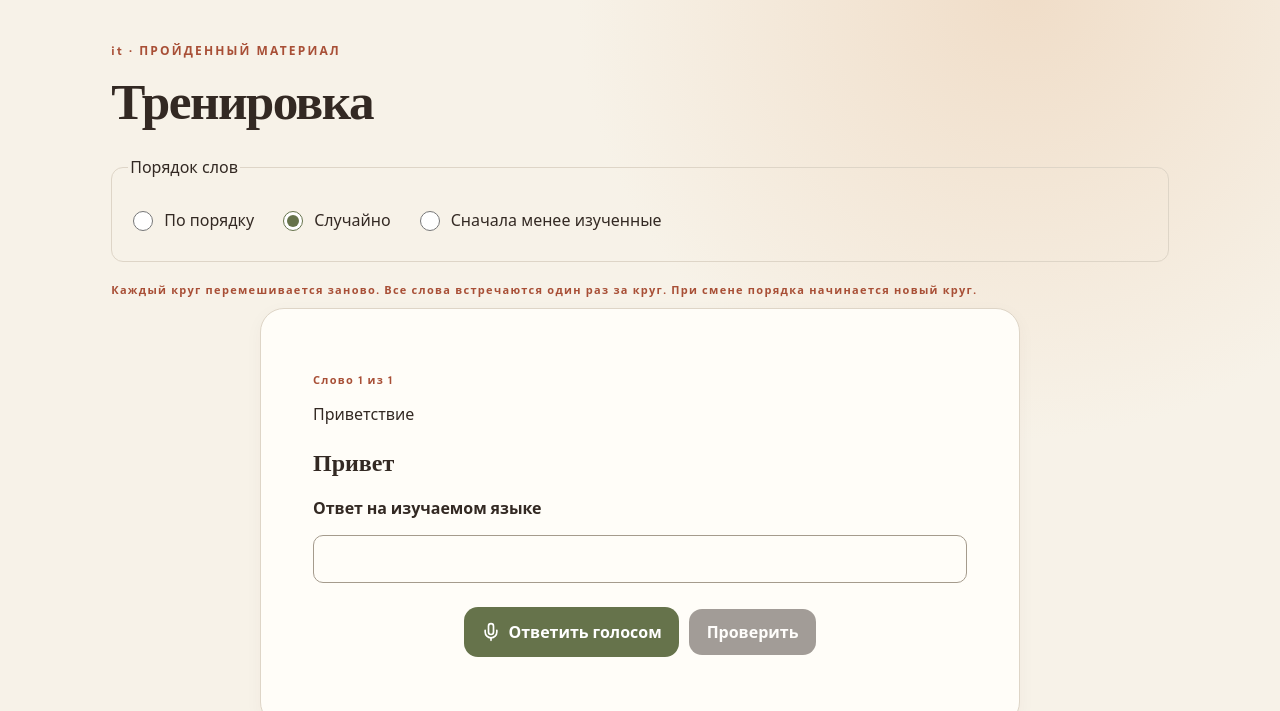
Test: keeps the it training grade visible after voice recognition
Click the button "Ответить голосом": coordinates (571, 632) x1=464 y1=607 x2=679 y2=657
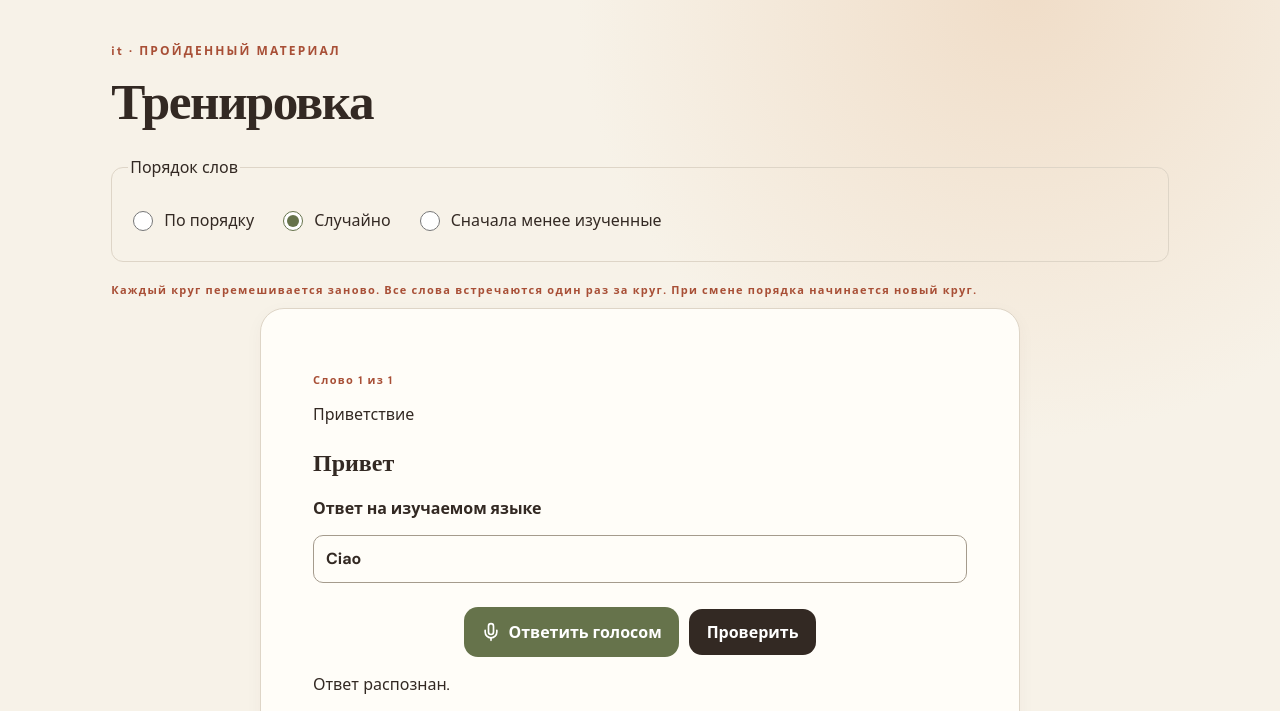
Expected: the field holds "Ciao", x1=313 y1=535 x2=967 y2=583
Click the button "Проверить": coordinates (753, 632) x1=689 y1=609 x2=816 y2=655
(page scrolled)
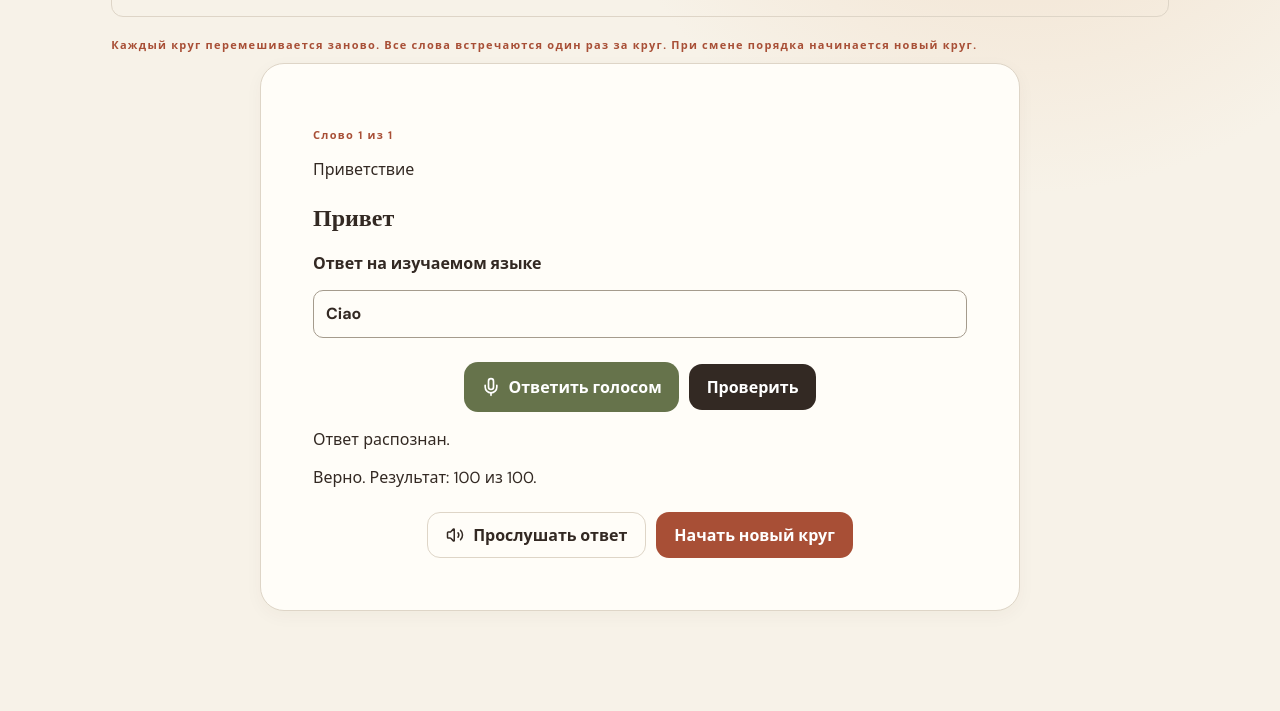
Expected: the text "Ответ распознан." is shown, x1=313 y1=429 x2=450 y2=450
Expected: the text "Верно. Результат: 100 из 100." is shown, x1=313 y1=467 x2=536 y2=488
Expected: the button "Начать новый круг" is enabled, x1=656 y1=512 x2=853 y2=558
